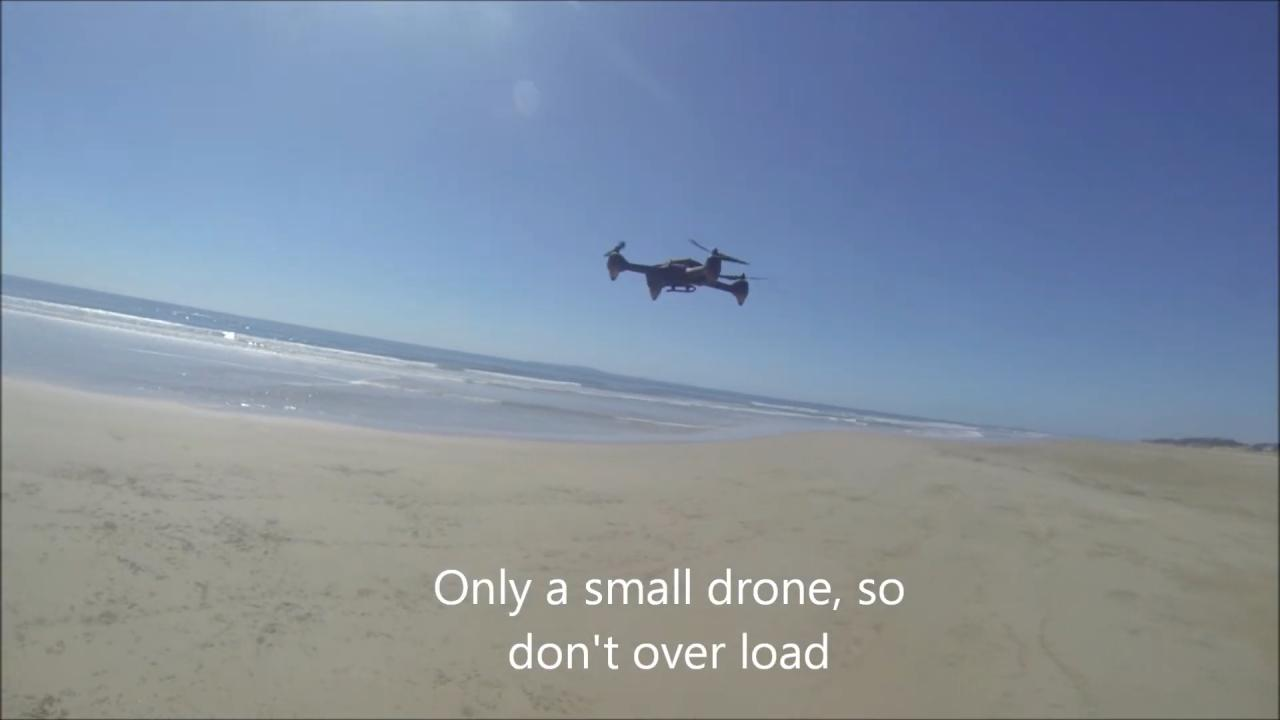Drone: (588, 229, 786, 319)
